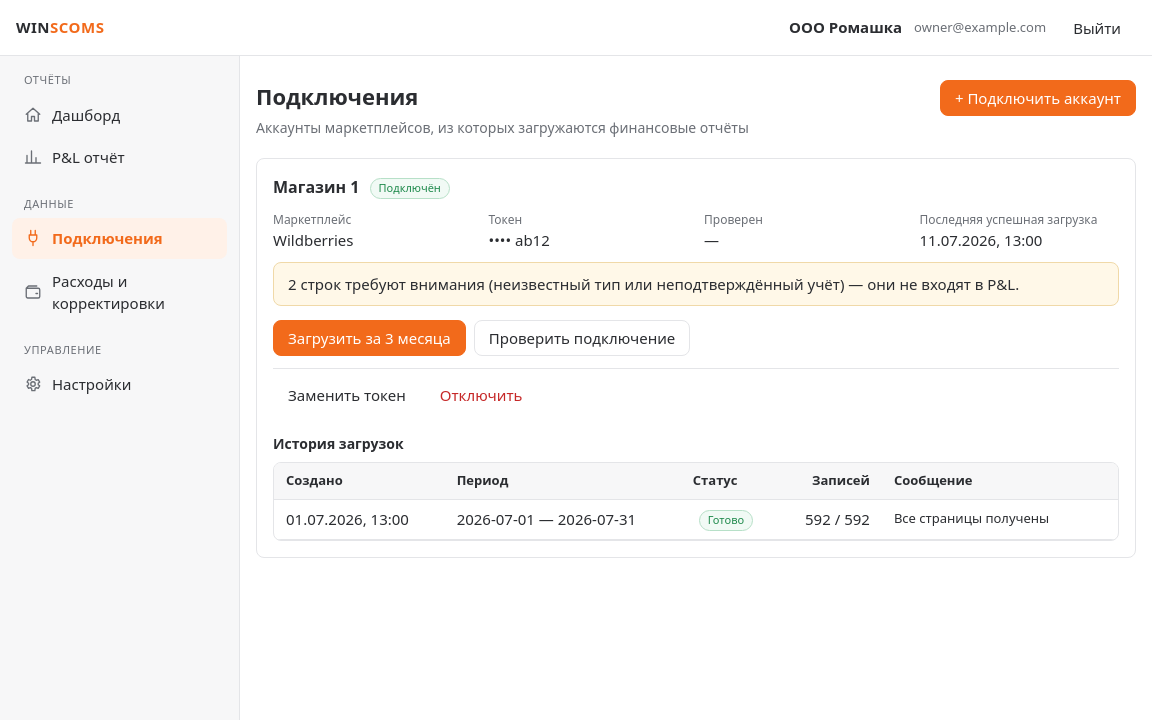
Scenario: подключения › лимит запросов WB при проверке показывается как понятное сообщение
The image size is (1152, 720).
Click the button "Проверить подключение".
click(582, 338)  # box [474, 320, 690, 356]
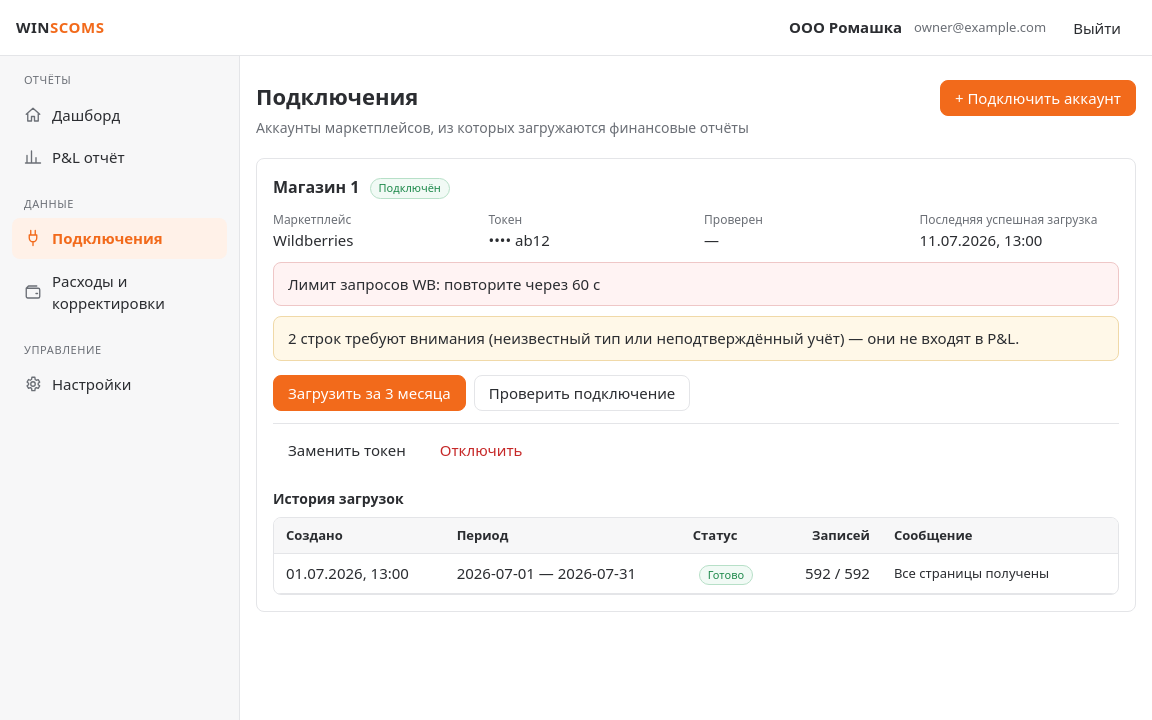
Expected: the message "Лимит запросов WB: повторите через 60 с" is shown, [273, 262, 1119, 306]
